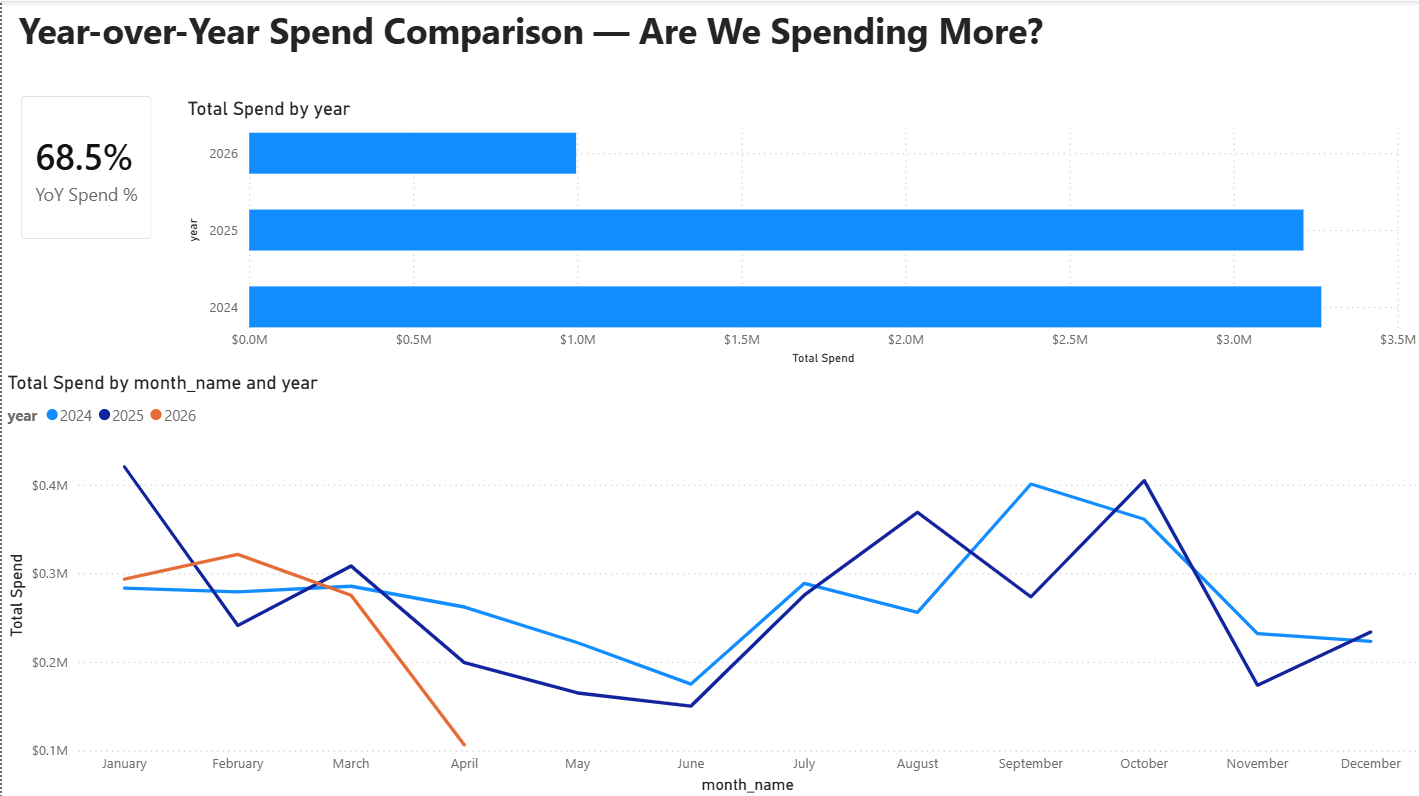

The page's visual inventory and layout, read from the dashboard file:
{"tool":"powerbi","page":{"name":"YoY Spend Analysis","canvas":[1280,720],"ordinal":3},"visuals":[{"type":"textbox","box":[9.9,0,954.9,69],"z":0},{"type":"clusteredBarChart","fields":{"Y":["_Measures.Total Spend"],"Category":["dim_dates.year"]},"box":[162,87.3,1118.3,246.5],"z":1},{"type":"cardVisual","fields":{"Data":["_Measures.YoY Spend %"]},"box":[0,69,152.1,163.4],"z":2},{"type":"lineChart","fields":{"Y":["_Measures.Total Spend"],"Series":["dim_dates.year"],"Category":["dim_dates.month_name"]},"box":[0,333.8,1280.3,385.9],"z":3}]}

Visuals, with their boxes in screenshot pixels (x1, y1, x2, y2), scaled from the page's 1280x720 canvas onto the 1419x796 screenshot:
textbox: bbox=(11, 0, 1070, 76)
clusteredBarChart - _Measures.Total Spend x dim_dates.year: bbox=(180, 97, 1418, 369)
cardVisual - _Measures.YoY Spend %: bbox=(0, 76, 169, 257)
lineChart - _Measures.Total Spend x dim_dates.year: bbox=(0, 369, 1418, 795)
